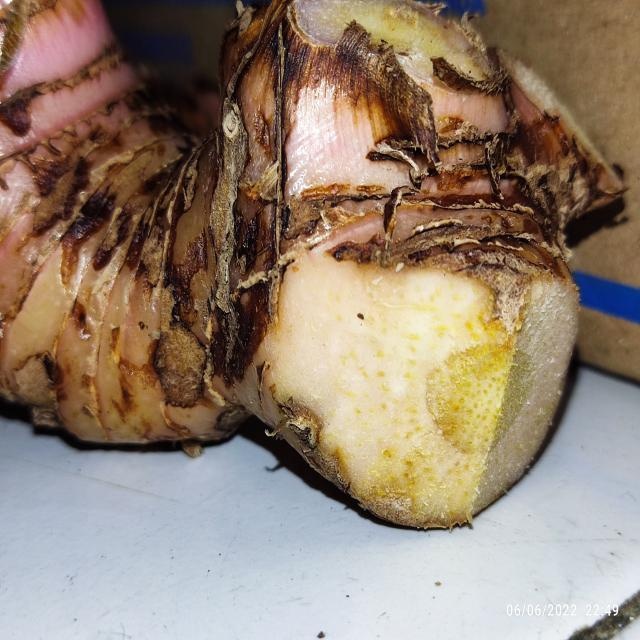ginger: (4, 2, 612, 515)
